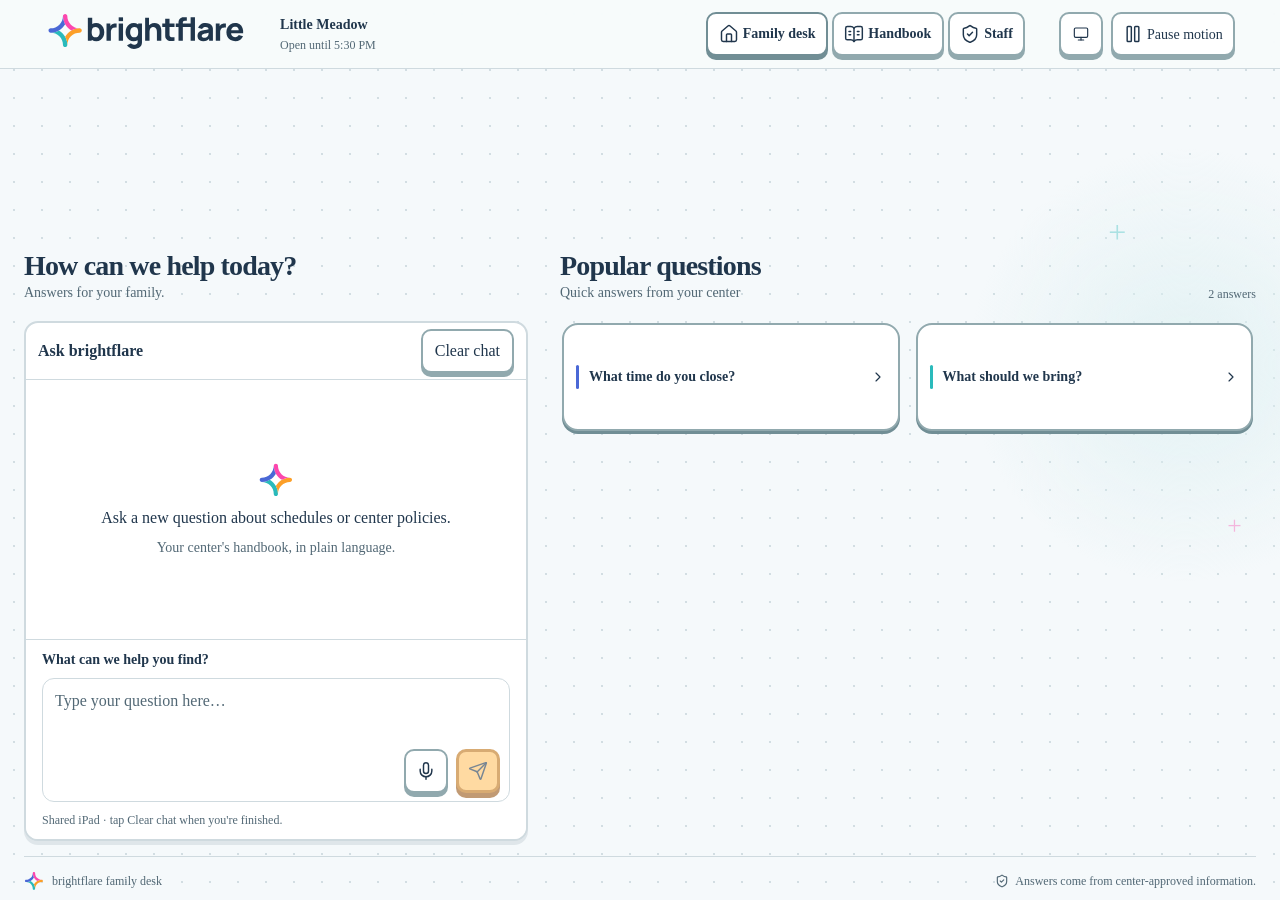
Test case: parent front desk › shows separate FAQ previews and opens each sourced full answer
Click the button "What time do you close?": coordinates (731, 377) [564,325,898,429]
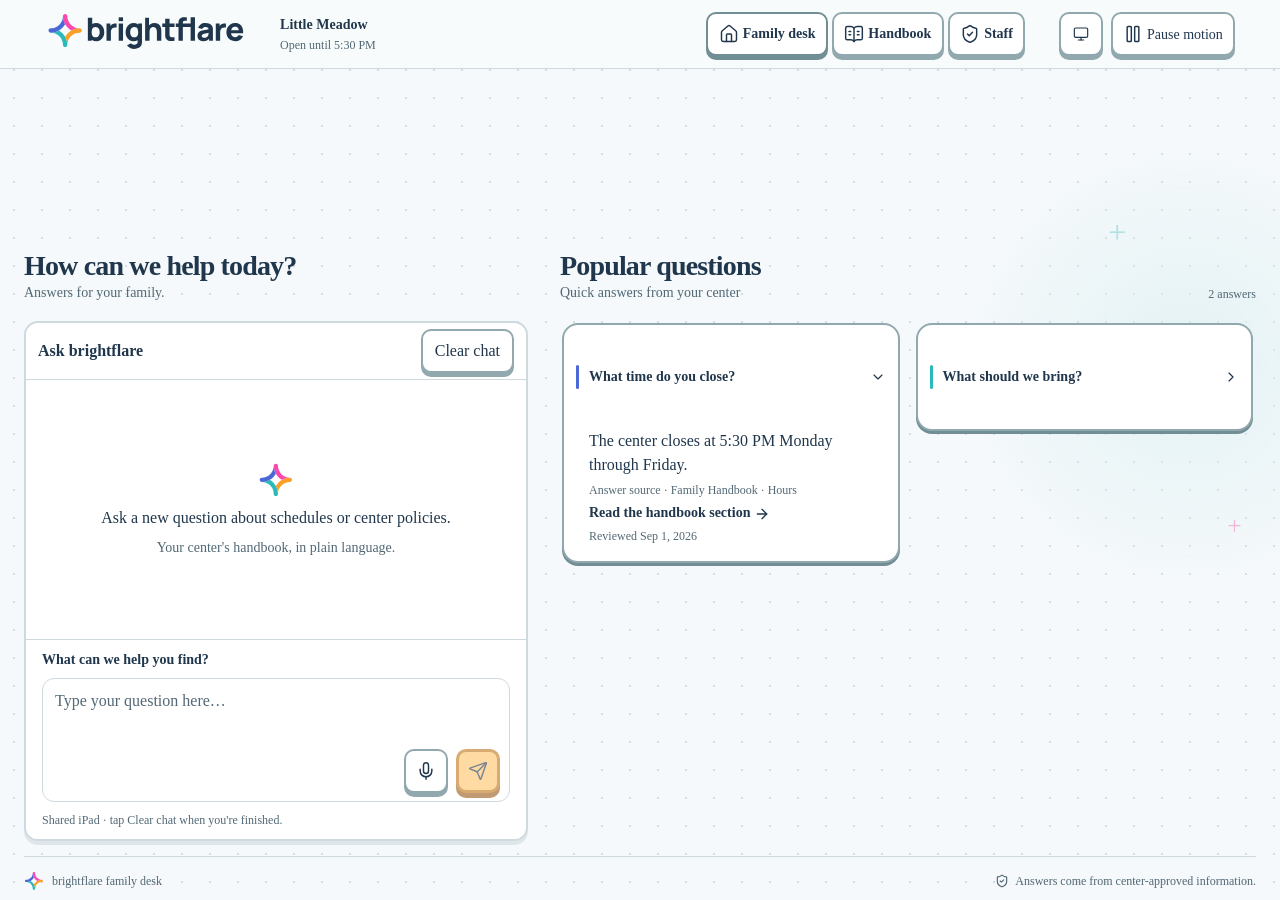
Now the text "The center closes at 5:30 PM Monday through Friday." is shown, box [589,432,832,473]
Now the text "Answer source · Family Handbook · Hours" is shown, box [589,483,797,497]
Now the text "Reviewed Sep 1, 2026" is shown, box [589,529,697,543]
Click the button "What should we bring?": coordinates (1084, 377) [918,325,1251,429]
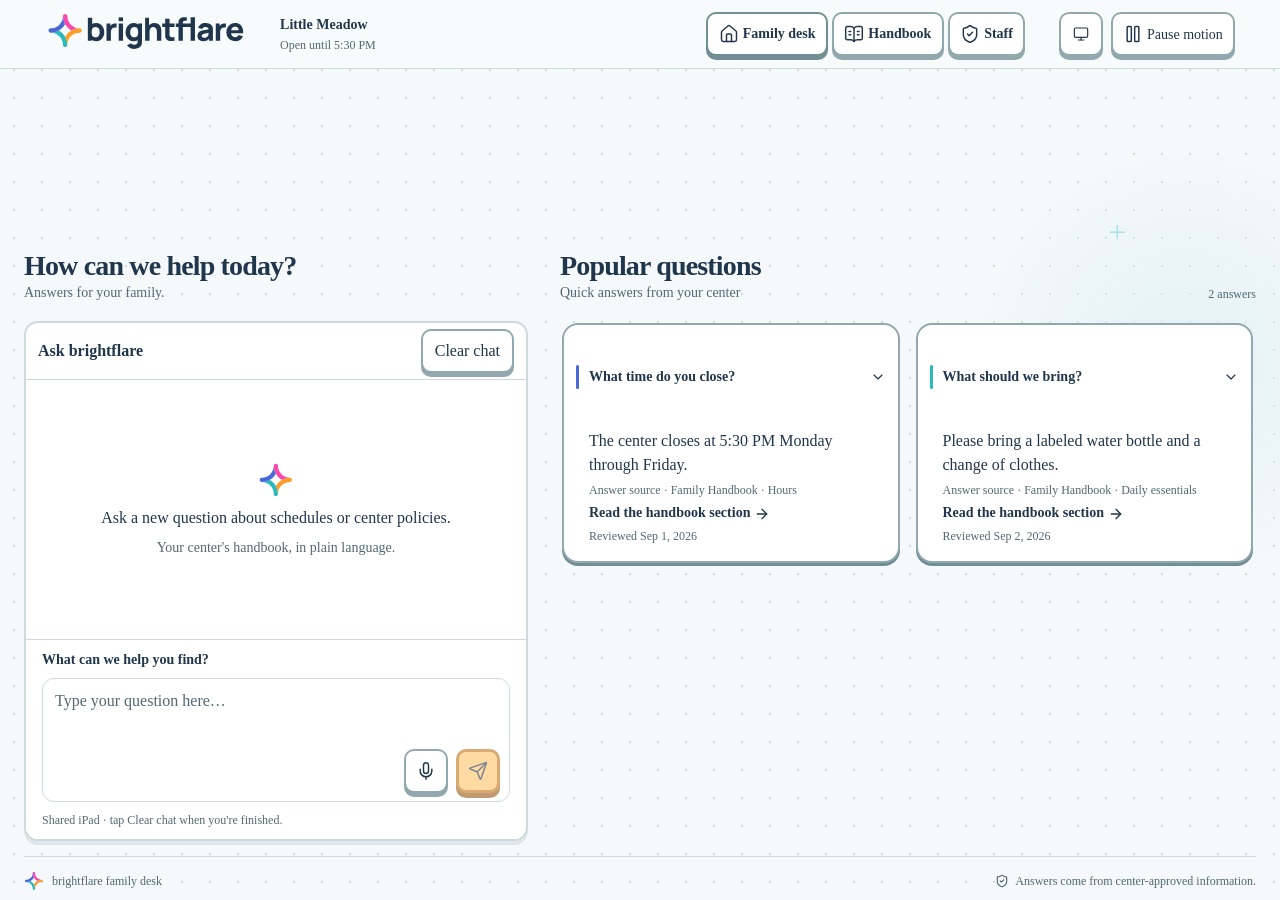
Expected: the number of buttons named "Ask brightflare" is 1, [456,749,500,793]
Now the text "Please bring a labeled water bottle and a change of clothes." is shown, box [942,429,1235,477]
Now the text "Answer source · Family Handbook · Daily essentials" is shown, box [942,481,1235,499]
